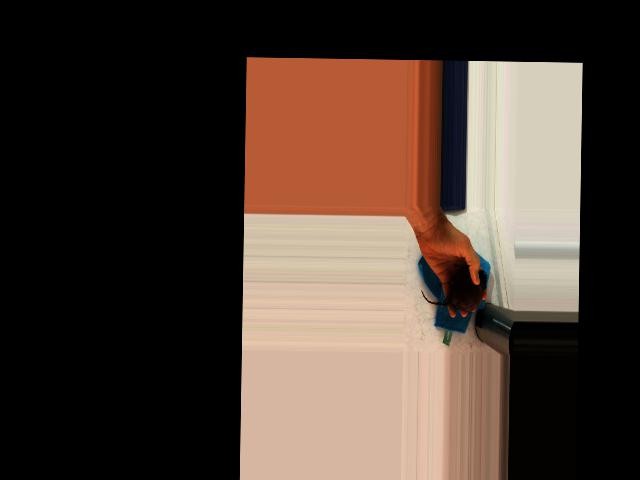beet: (420, 264, 487, 312)
